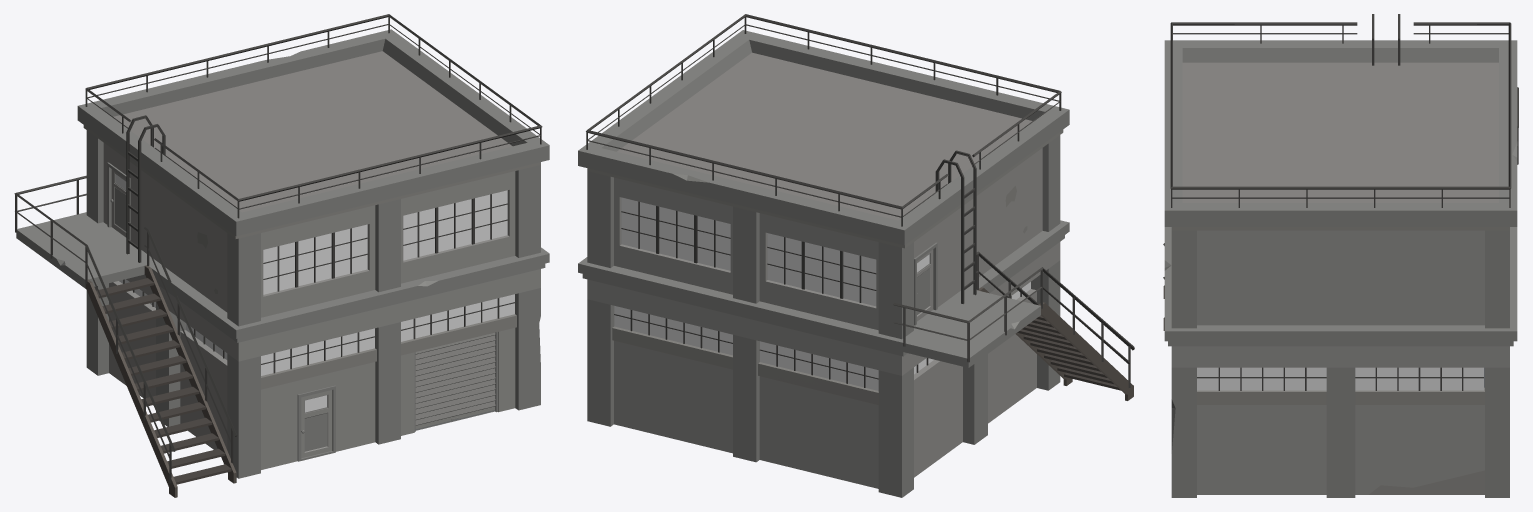
Rendered from SM_Bldg_City_Industrial_05.fbx.
3 renders of one model, left to right at view 1: azimuth 30°, elevation 25°; view 2: azimuth 150°, elevation 25°; view 3: azimuth 270°, elevation 25°, orthographic. The views are drawn at different scales.
Visible parts, largest first — view 1: SM_Bldg_City_Industrial_05; view 2: SM_Bldg_City_Industrial_05; view 3: SM_Bldg_City_Industrial_05.
Part boxes in pixels (x1,y1,x2,y2): SM_Bldg_City_Industrial_05: [14, 14, 549, 497]; SM_Bldg_City_Industrial_05: [578, 14, 1134, 497]; SM_Bldg_City_Industrial_05: [1163, 14, 1518, 497].
Size of the model in its own units: 1345 by 976 by 989.
